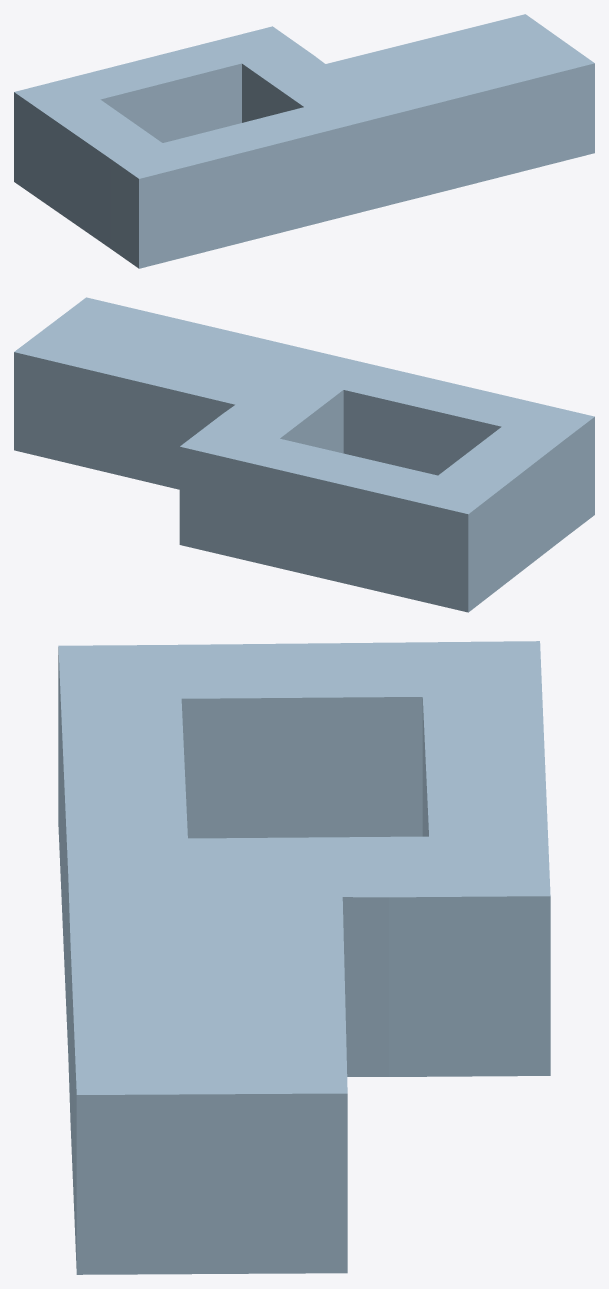
File: osm_way_223699454.glb
The picture shows the model from 3 angles, top to bottom: view 1: azimuth 30°, elevation 25°; view 2: azimuth 150°, elevation 25°; view 3: azimuth 270°, elevation 25°; orthographic projection. The views are drawn at different scales.
Visible parts, largest first — view 1: osm_way_223699454; view 2: osm_way_223699454; view 3: osm_way_223699454.
Part boxes in pixels (bbox=[...]): osm_way_223699454: bbox=[14, 14, 594, 268]; osm_way_223699454: bbox=[14, 297, 594, 612]; osm_way_223699454: bbox=[58, 641, 550, 1274].
Size of the model in its own units: 120 by 22.2 by 55.09.
